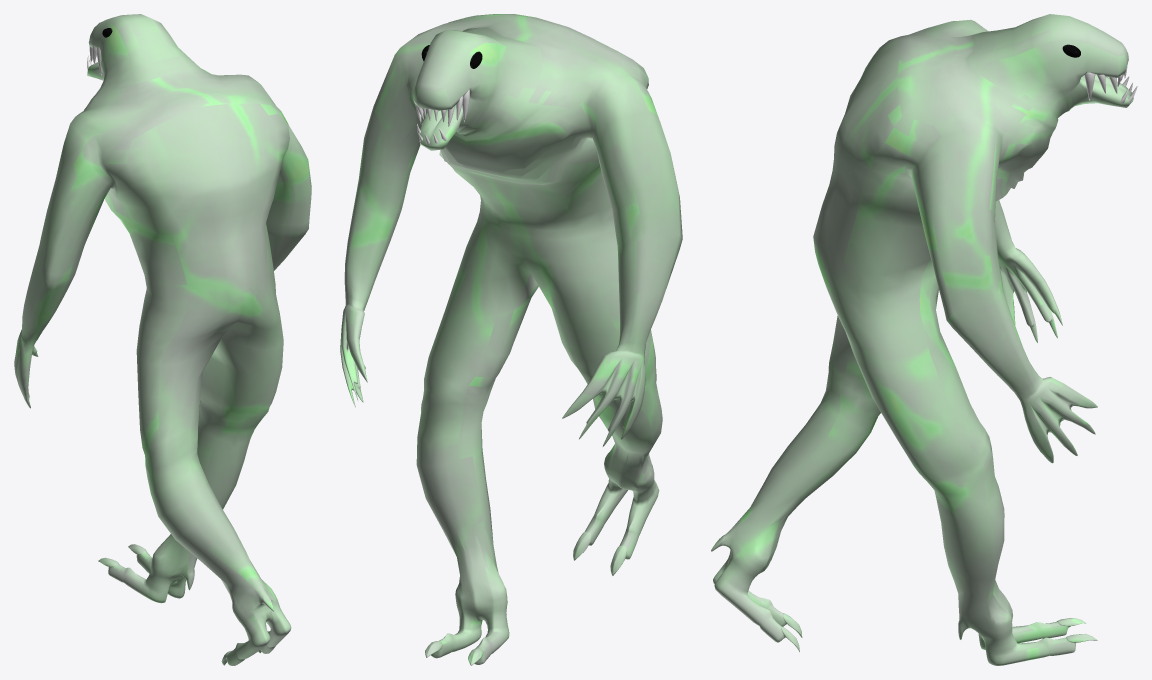
File: Berserkerandar.0032.obj
The picture shows the model from 3 angles, left to right: view 1: azimuth 30°, elevation 25°; view 2: azimuth 150°, elevation 25°; view 3: azimuth 270°, elevation 25°; orthographic projection. The views are drawn at different scales.
Parts seen in each view (by area): view 1: polySurface27; view 2: polySurface27; view 3: polySurface27.
Boxes of the visible parts, x1=… form: polySurface27: x1=14, y1=14, x2=311, y2=665; polySurface27: x1=340, y1=14, x2=682, y2=665; polySurface27: x1=711, y1=14, x2=1137, y2=665.
Bounding box in the file's own units: 11.44 × 22.85 × 13.9.
Materials: 1 (1 with a texture image).
